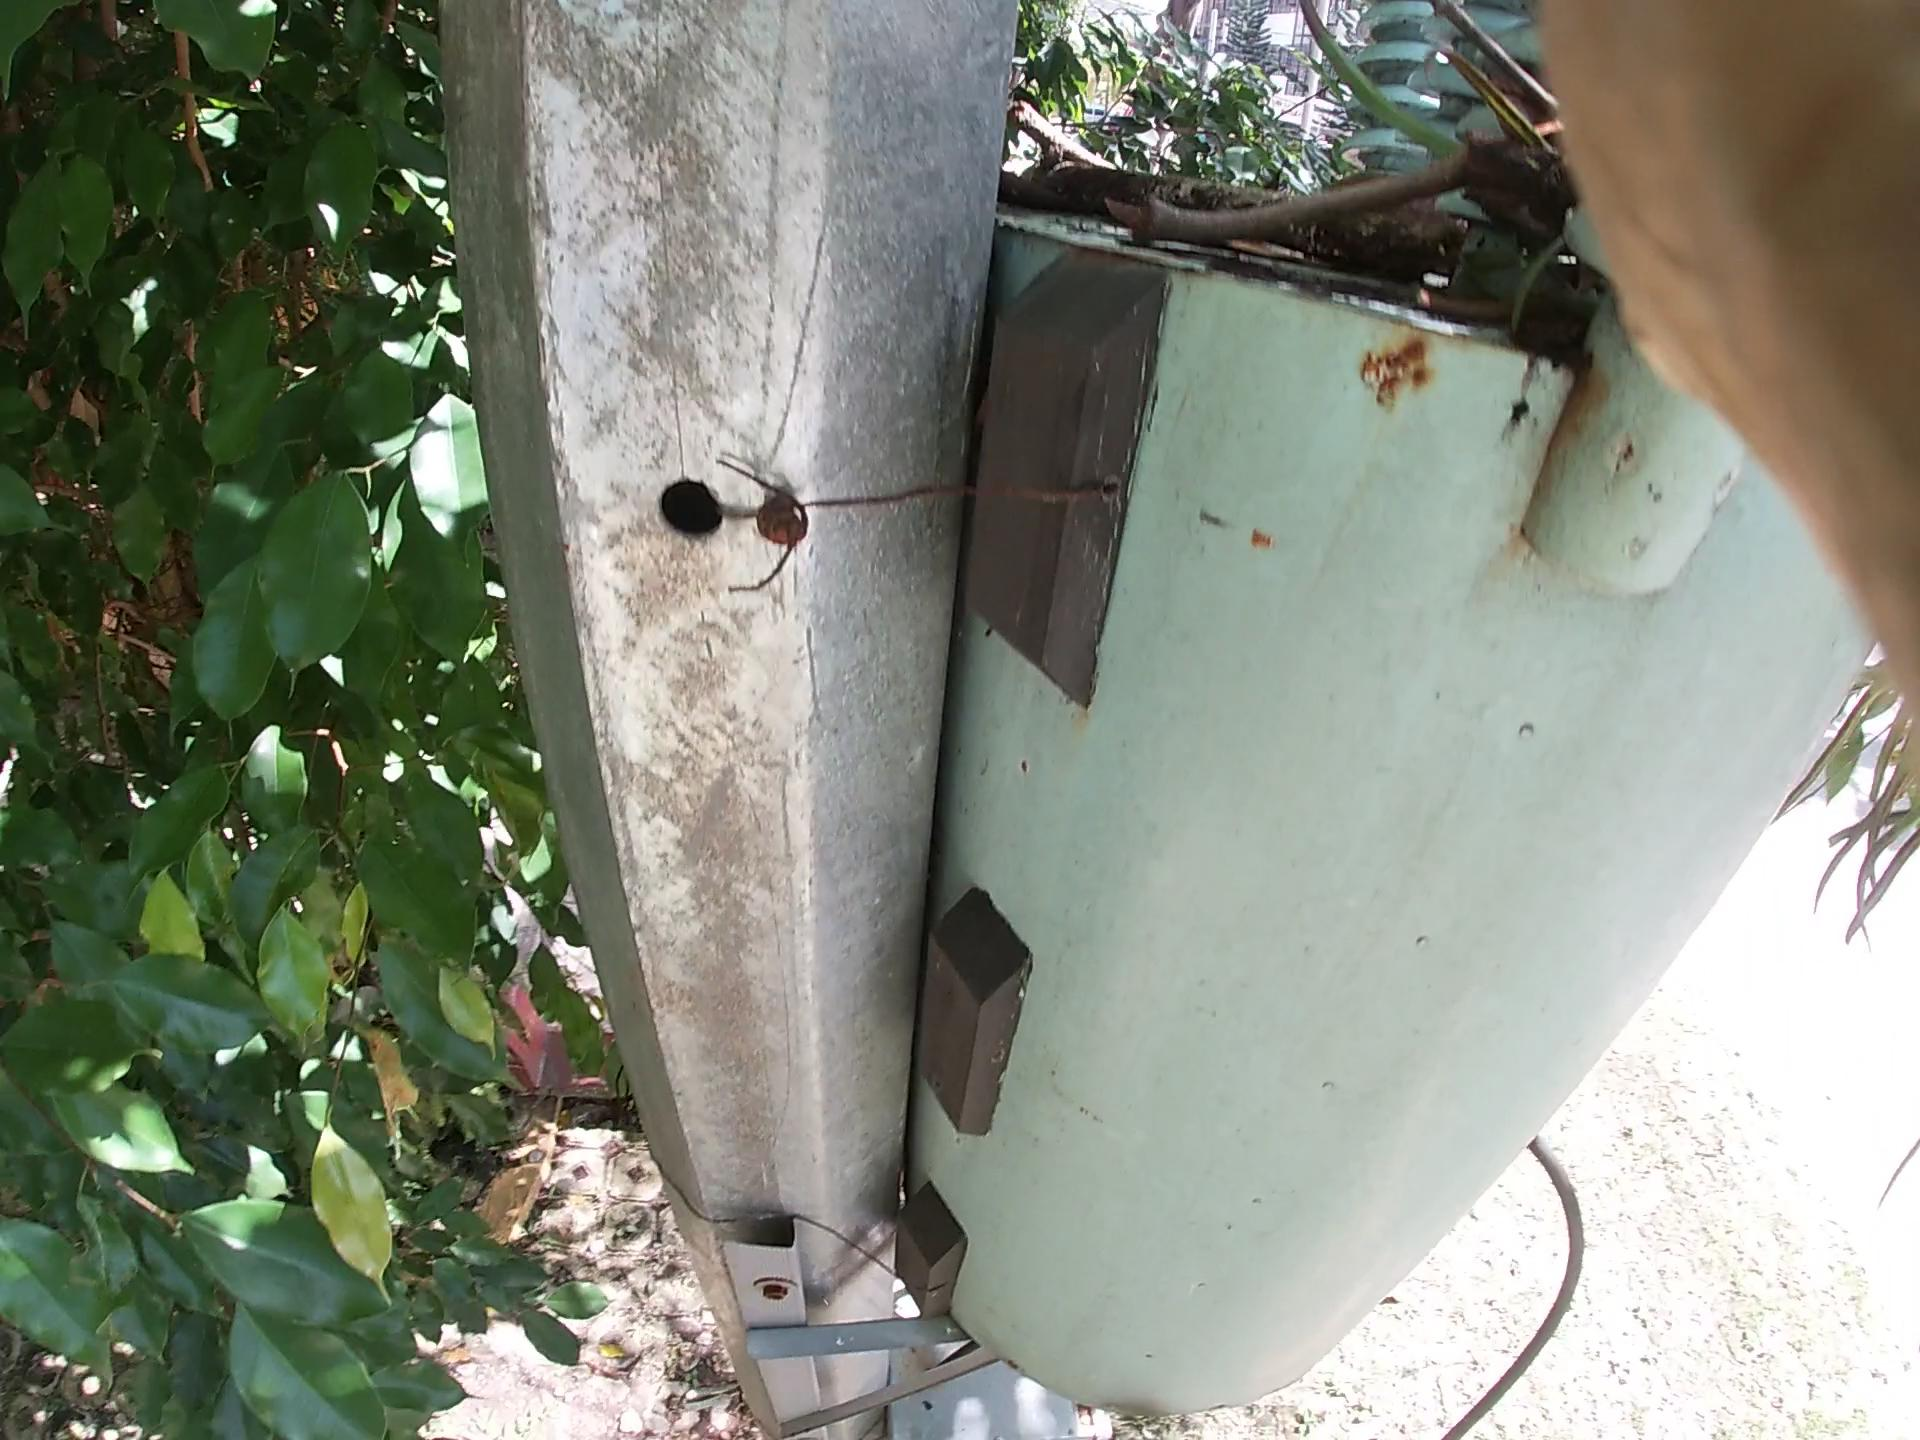branch with leaves: (1079, 106, 1710, 504)
mahogany fruit: (1417, 71, 1648, 277)
tree branch: (1064, 101, 1637, 225), (1429, 5, 1596, 185)
